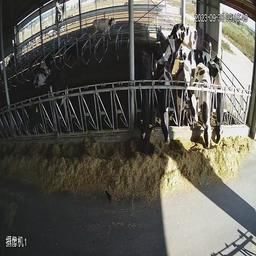cow: (33, 67, 76, 152), (134, 47, 155, 164), (155, 54, 175, 162), (192, 60, 213, 157), (210, 54, 229, 150), (177, 56, 195, 125), (31, 49, 59, 90), (95, 12, 122, 44), (166, 24, 199, 46)
